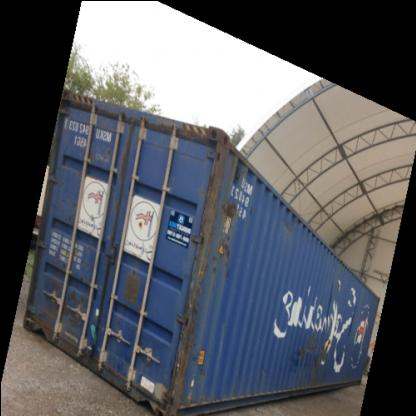Damage: (166, 274, 202, 402), (212, 192, 242, 274), (287, 332, 341, 376), (38, 282, 89, 322), (115, 261, 145, 313), (322, 282, 336, 318), (280, 212, 298, 224)
